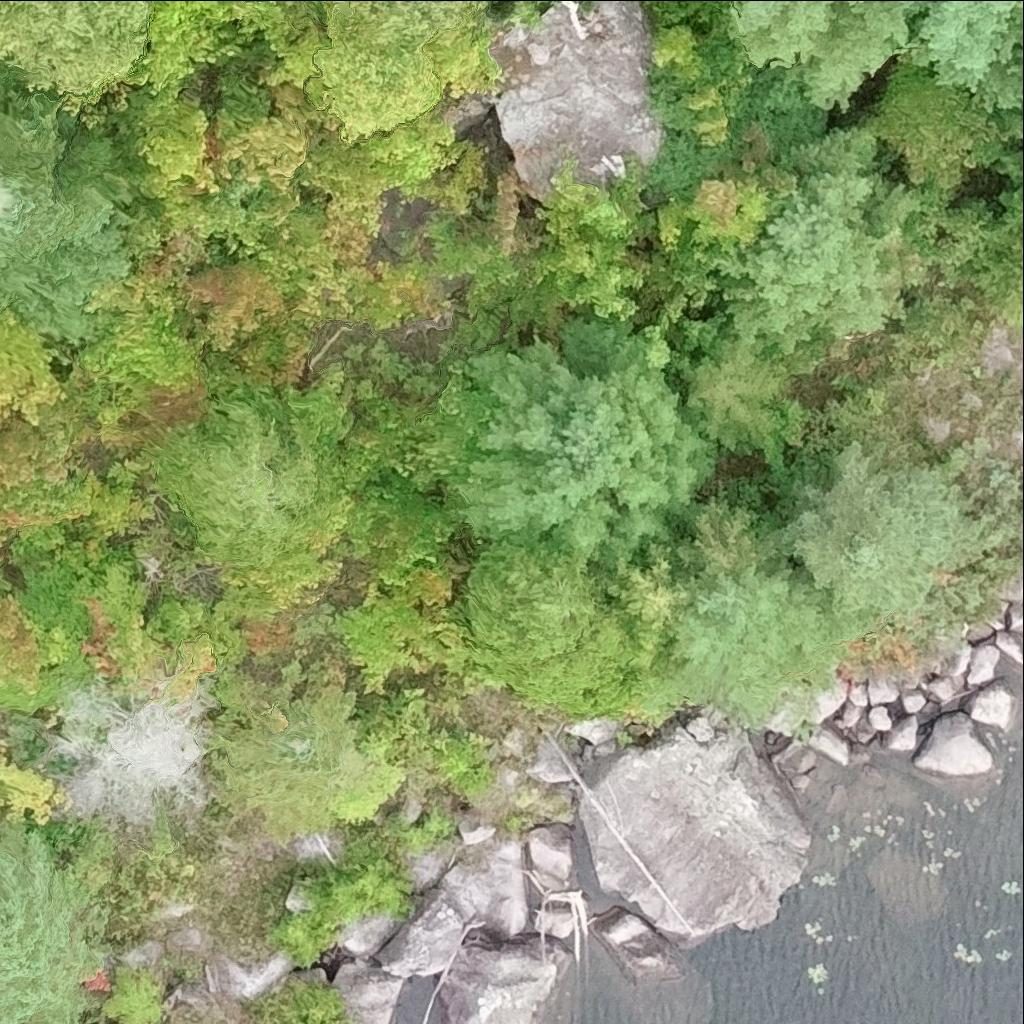crown: (463, 321, 714, 568), (715, 126, 921, 352), (453, 519, 673, 719), (148, 386, 351, 570), (0, 111, 140, 344), (502, 163, 652, 364), (37, 667, 219, 832), (203, 686, 362, 843), (0, 820, 110, 1023), (657, 122, 804, 263), (729, 0, 911, 113), (865, 58, 995, 205), (889, 0, 1023, 138), (425, 166, 541, 318), (69, 297, 205, 426), (83, 219, 209, 348), (0, 376, 98, 534), (0, 0, 153, 98), (211, 78, 340, 194), (81, 559, 180, 709), (649, 11, 756, 148), (329, 581, 458, 694), (676, 329, 784, 456), (404, 363, 503, 499), (112, 83, 223, 201), (335, 370, 440, 494), (878, 189, 995, 300), (221, 168, 323, 292), (0, 593, 93, 717), (143, 592, 246, 702), (178, 255, 297, 350), (10, 521, 102, 639), (299, 833, 414, 924), (738, 58, 831, 163), (120, 16, 242, 95), (360, 469, 472, 549), (96, 383, 212, 459), (343, 253, 447, 333), (221, 545, 342, 610), (208, 579, 305, 660), (330, 0, 484, 51), (646, 224, 721, 327), (422, 5, 502, 101), (290, 128, 396, 200), (0, 307, 63, 425), (286, 244, 375, 324), (280, 362, 356, 453), (226, 313, 316, 388), (395, 140, 483, 216), (320, 492, 414, 561), (261, 18, 348, 91), (365, 112, 453, 184), (320, 193, 382, 271), (388, 552, 469, 608), (155, 188, 244, 238), (72, 479, 143, 540), (269, 909, 339, 967), (364, 537, 437, 587), (102, 966, 163, 1023), (148, 0, 234, 34), (226, 0, 288, 45), (630, 308, 671, 371), (510, 0, 557, 18), (0, 569, 10, 589), (0, 537, 4, 547), (0, 559, 4, 566)
